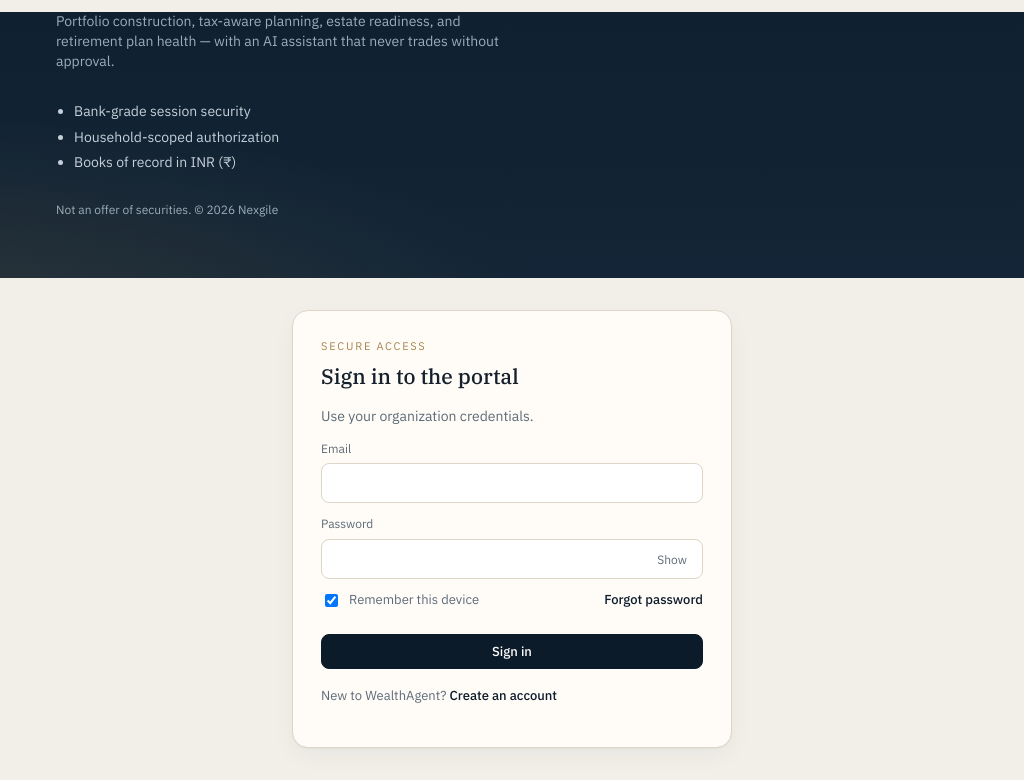
login rendering and validation › shows validation when submitted empty
(page scrolled)
Click the button "Sign in" at x=512, y=651, box [321,634,703,669]
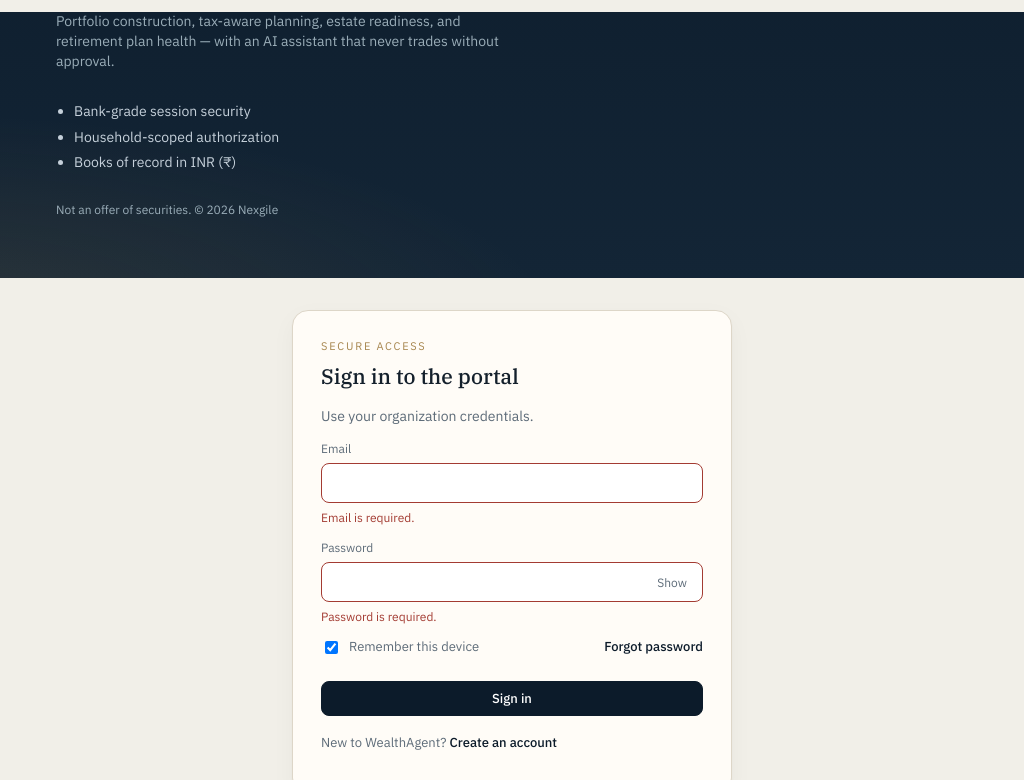
Expected: the text "Email is required." is shown, [321,510,414,526]
